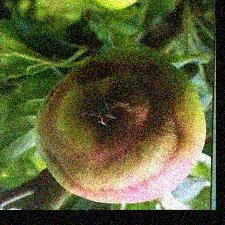rotten apple: (32, 50, 209, 204)
